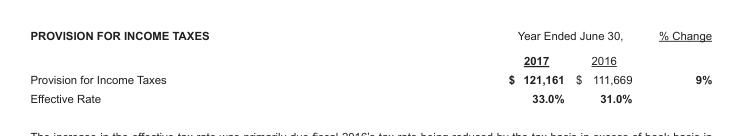table: (29, 28, 711, 104)
table column: (29, 28, 358, 104), (358, 28, 569, 104), (569, 28, 644, 104), (644, 28, 711, 104)
table column header: (29, 28, 711, 69)
table row: (29, 47, 711, 69), (29, 28, 711, 47), (29, 69, 711, 88), (29, 88, 711, 104)
table spanning cell: (29, 28, 358, 69), (358, 28, 644, 47), (644, 28, 711, 69)
